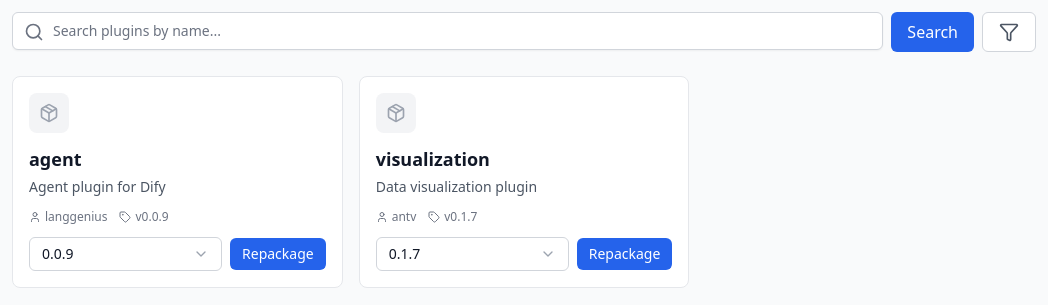
MarketplaceBrowser › handles search functionality
This screenshot has width=1048, height=305.
Expected: the heading "agent" is shown, [29,147,82,171]
Type "visual" into the field with placeholder "Search plugins by name...".
click(448, 31); type("visual")  # box [12,12,883,50]
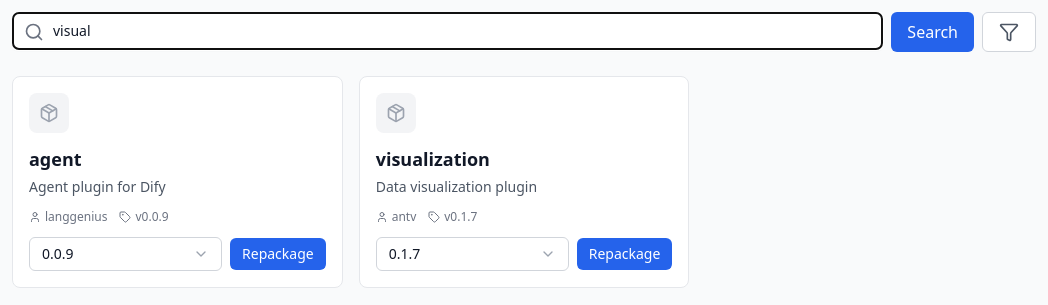
Note: Click search button to trigger search
Click the button "Search".
click(933, 32)  # box [891,12,974,52]
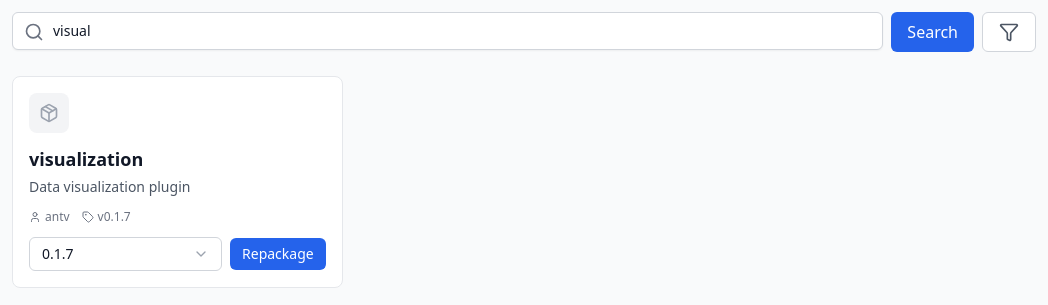
Expected: the heading "visualization" is shown, [29,147,143,171]
Result: the heading "agent" is gone
